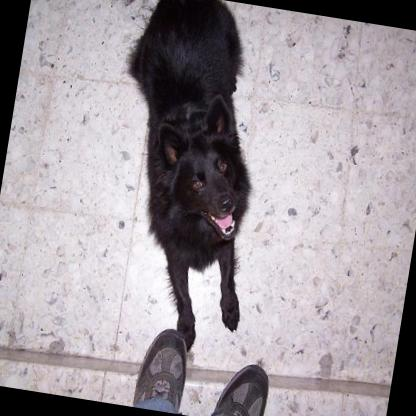schipperke: (52, 0, 286, 353)
